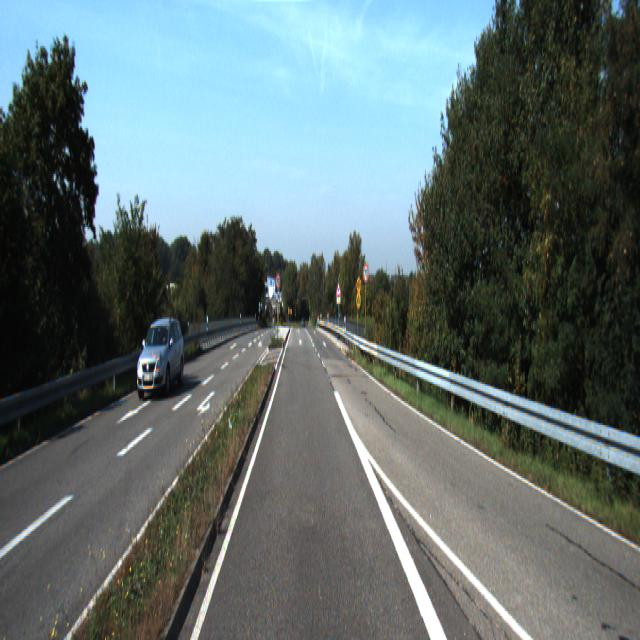Car: (131, 314, 185, 398)
